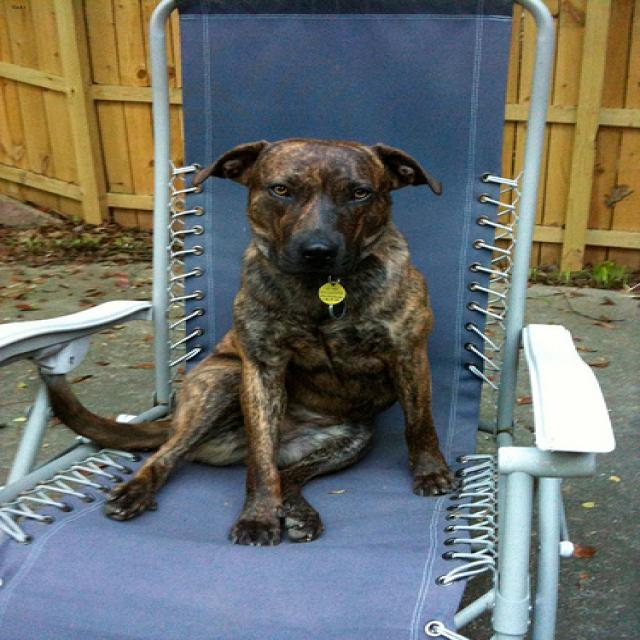dog-american_pit_bull_terrier: (34, 127, 464, 567)
